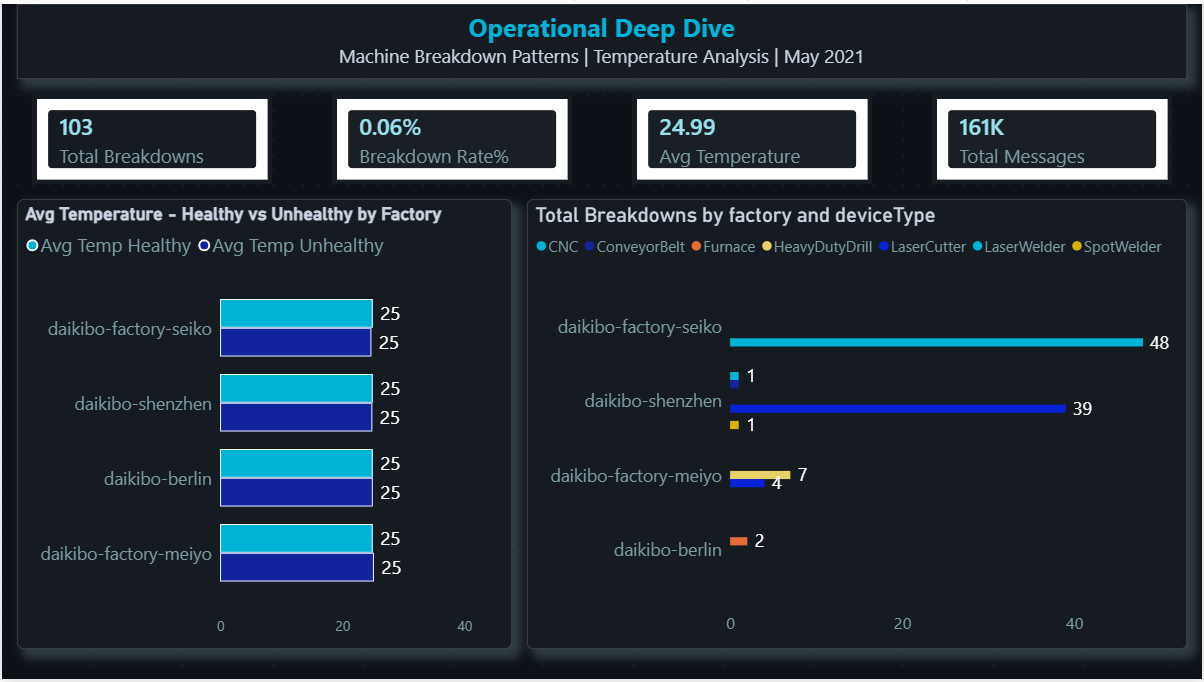

What the dashboard file says about the page in this screenshot:
{"tool":"powerbi","page":{"name":"Operational Deep Dive","canvas":[1280,720],"ordinal":1},"visuals":[{"type":"clusteredBarChart","title":"Avg Temperature - Healthy vs Unhealthy by Factory","fields":{"Category":["Telemetory.factory"],"Y":["KPI_Measures.Avg Temp Healthy","KPI_Measures.Avg Temp Unhealthy"]},"box":[16,208,528,480],"z":0},{"type":"textbox","box":[16,0,1248,80],"z":1000},{"type":"cardVisual","fields":{"Data":["KPI_Measures.Total Breakdowns"]},"box":[32,96,256,96],"z":3000},{"type":"cardVisual","fields":{"Data":["KPI_Measures.Breakdown Rate%"]},"box":[352,96,256,96],"z":3001},{"type":"cardVisual","fields":{"Data":["KPI_Measures.Avg Temperature"]},"box":[672,96,256,96],"z":3002},{"type":"cardVisual","fields":{"Data":["KPI_Measures.Total Messages"]},"box":[992,96,256,96],"z":3003},{"type":"clusteredBarChart","fields":{"Category":["Telemetory.factory"],"Y":["KPI_Measures.Total Breakdowns"],"Series":["Telemetory.deviceType"]},"box":[560,208,704,480],"z":3004}]}

Visuals, with their boxes in screenshot pixels (x1, y1, x2, y2), scaled from the page's 1280x720 canvas onto the 1204x682 screenshot:
"Avg Temperature - Healthy vs Unhealthy by Factory" clusteredBarChart: detection(15, 197, 512, 652)
textbox: detection(15, 0, 1189, 76)
cardVisual - KPI_Measures.Total Breakdowns: detection(30, 91, 271, 182)
cardVisual - KPI_Measures.Breakdown Rate%: detection(331, 91, 572, 182)
cardVisual - KPI_Measures.Avg Temperature: detection(632, 91, 873, 182)
cardVisual - KPI_Measures.Total Messages: detection(933, 91, 1174, 182)
clusteredBarChart - Telemetory.factory x KPI_Measures.Total Breakdowns: detection(527, 197, 1189, 652)
